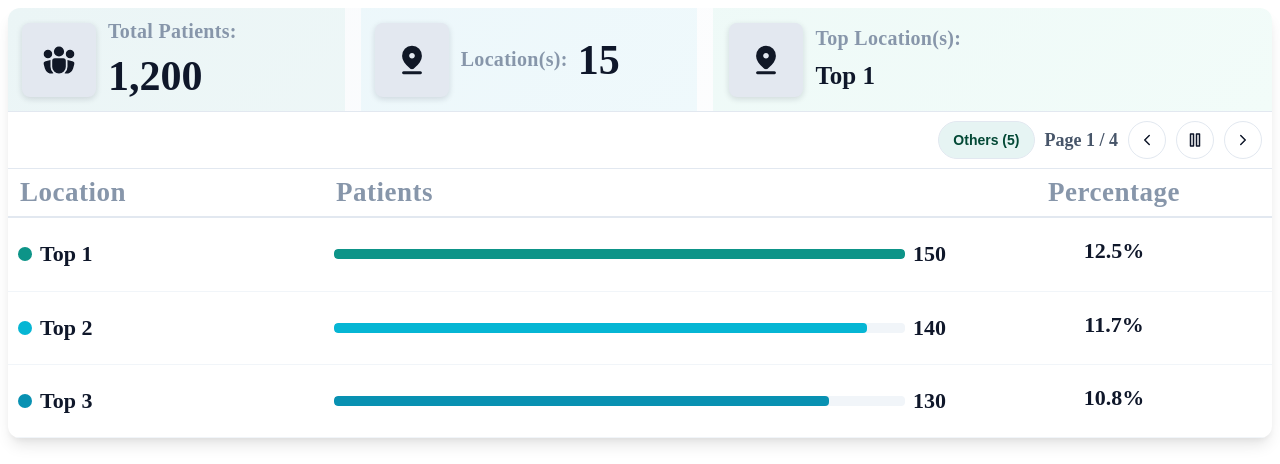
plugin-chart-table › transformProps › TableChart › applies sort-by in Others view in real time
The image size is (1280, 464).
Click the button with aria-label "Show 5 locations in Others" at point(986, 140), box 938,121 -> 1034,159
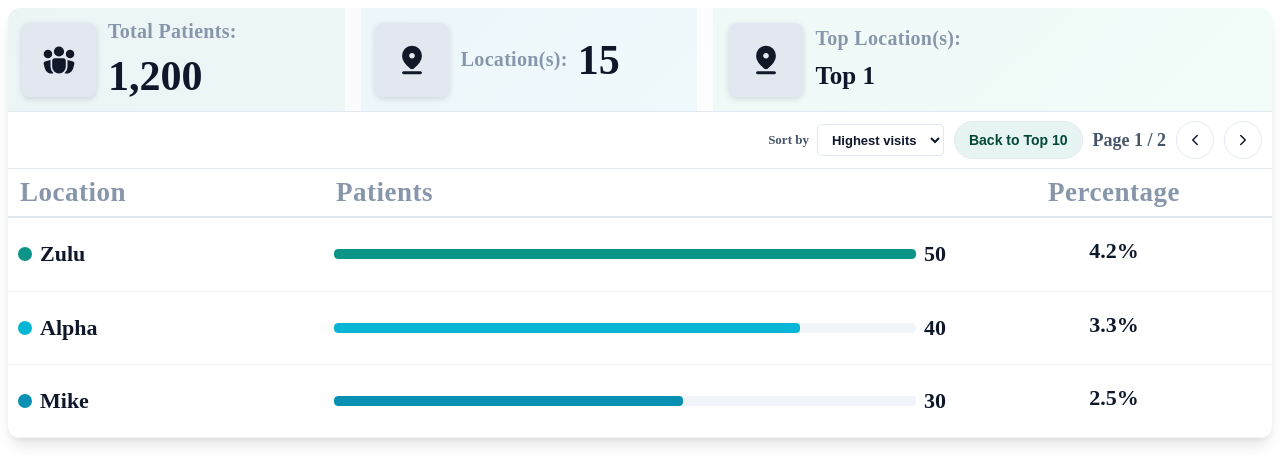
Check: the text "Zulu" is shown, box 40,241 -> 85,267
Select "A-Z" in the dropdown labelled "Sort by" at point(880, 140), box 817,124 -> 944,156
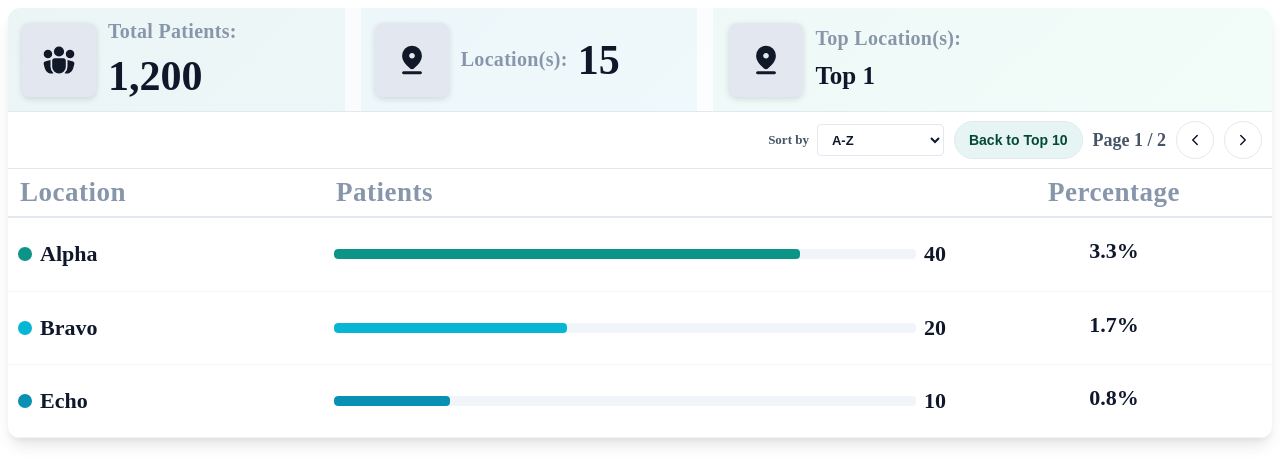
Check: the text "Alpha" is shown, box 40,241 -> 98,267
